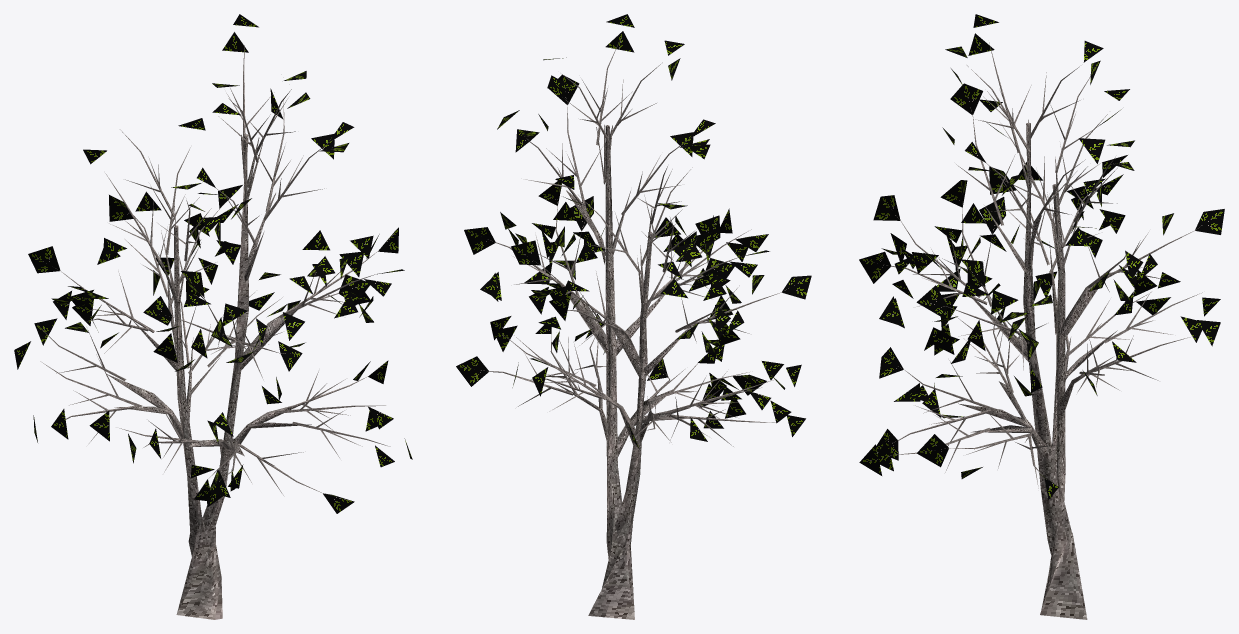
Rendered from tree_elm_lo.glb.
The picture shows the model from 3 angles, left to right: view 1: azimuth 30°, elevation 25°; view 2: azimuth 150°, elevation 25°; view 3: azimuth 270°, elevation 25°; orthographic projection. The views are drawn at different scales.
Visible parts, largest first — view 1: m; view 2: m; view 3: m.
Part boxes in pixels (x1=…): m: x1=14, y1=14, x2=412, y2=619; m: x1=456, y1=14, x2=811, y2=619; m: x1=859, y1=14, x2=1224, y2=619.
Bounding box in the file's own units: 0.6724 × 1 × 0.5903.
2 materials, 2 textured.
